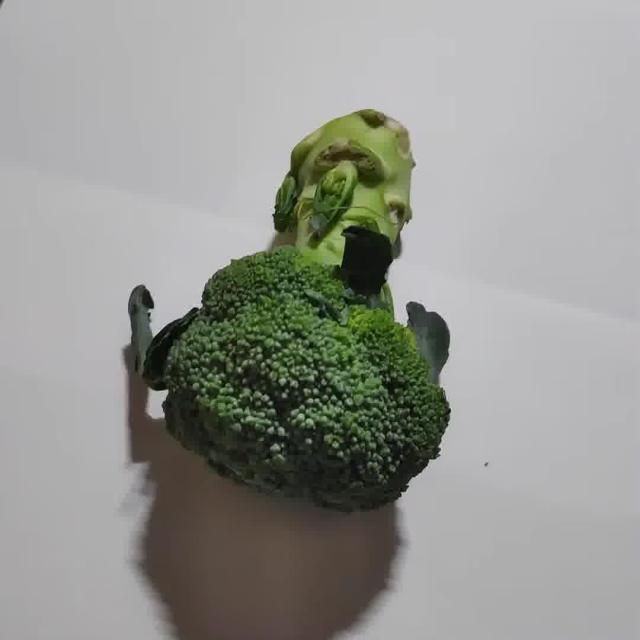Broccoli: (163, 109, 450, 508)
